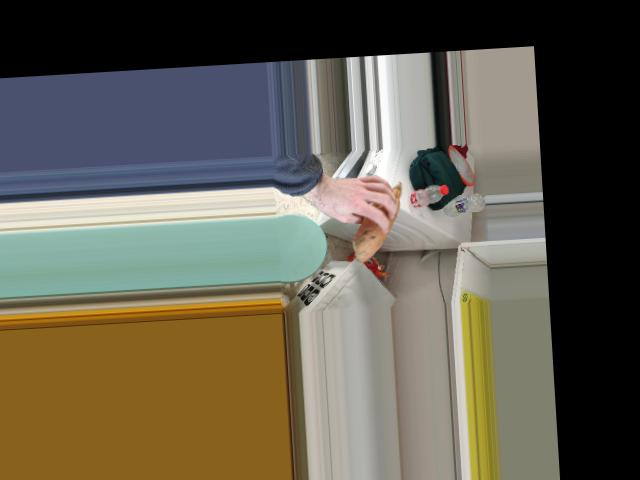sweet_potato: (348, 179, 403, 259)
